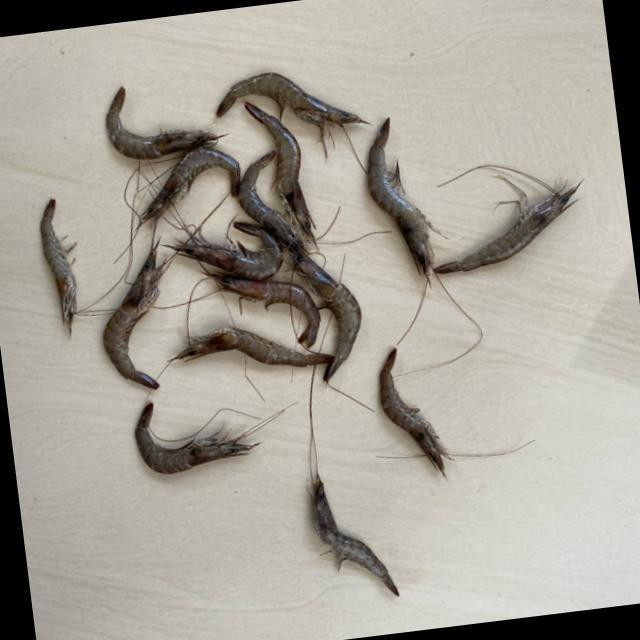shrimp: (436, 184, 581, 271), (370, 117, 437, 277), (103, 241, 172, 389), (246, 101, 316, 242), (315, 480, 400, 596), (292, 248, 363, 380), (381, 348, 453, 478), (217, 71, 368, 131), (135, 403, 259, 472), (106, 86, 223, 157), (210, 273, 321, 347), (141, 146, 241, 221), (168, 222, 284, 280), (170, 326, 334, 367), (239, 150, 303, 251), (40, 198, 77, 334)
